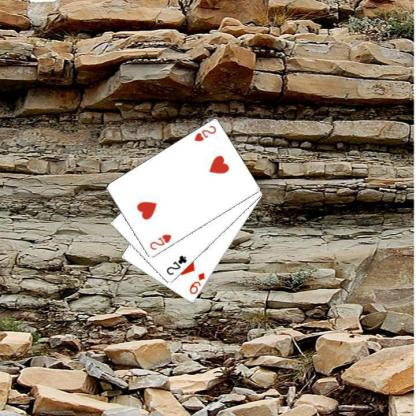2C: (163, 253, 188, 276)
2H: (191, 123, 217, 143), (147, 232, 173, 251)
9D: (187, 270, 206, 296)
